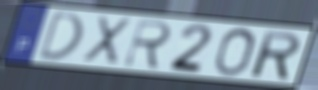2: (169, 23, 216, 76)
D: (35, 9, 85, 62)
O: (212, 27, 259, 78)
R: (121, 17, 175, 71), (250, 29, 302, 82)
X: (79, 14, 134, 68)
